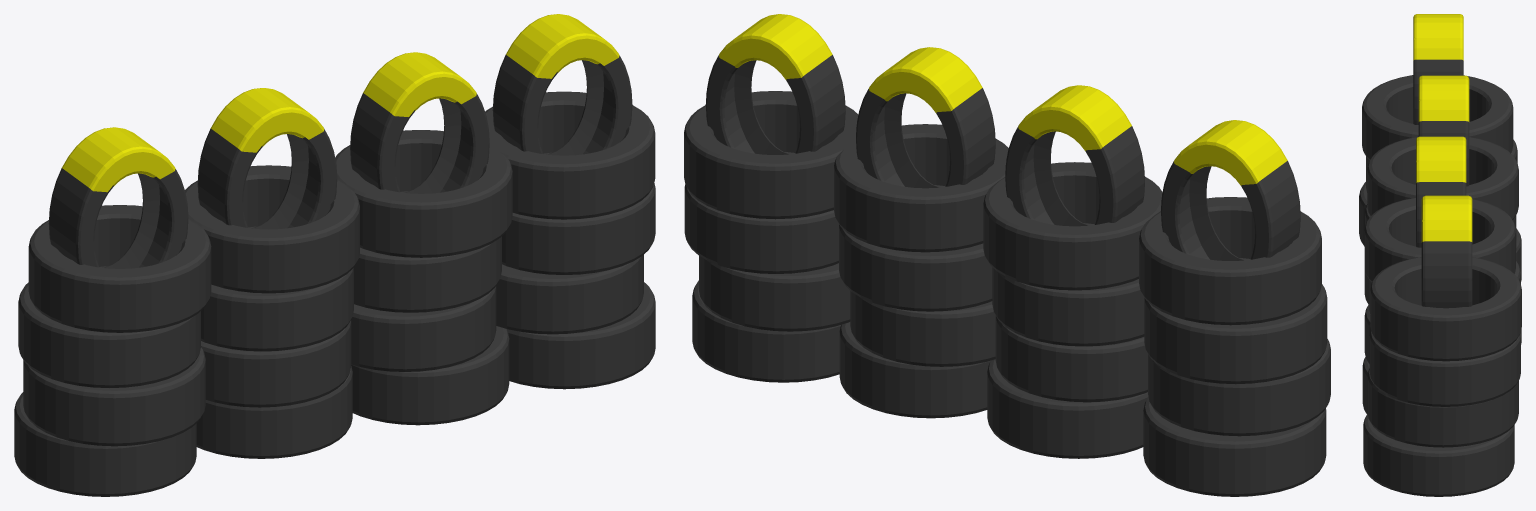
File: tire_barier.fbx
3 renders of one model, left to right at view 1: azimuth 30°, elevation 25°; view 2: azimuth 150°, elevation 25°; view 3: azimuth 270°, elevation 25°, orthographic. The views are drawn at different scales.
Parts seen in each view (by area): view 1: Цилиндр.005; view 2: Цилиндр.005; view 3: Цилиндр.005.
Part boxes in pixels (left/top/right/bottom): Цилиндр.005: left=14, top=14, right=655, bottom=496; Цилиндр.005: left=684, top=14, right=1330, bottom=496; Цилиндр.005: left=1359, top=14, right=1521, bottom=496.
Bounding box in the file's own units: 257 × 129 × 70.95.
